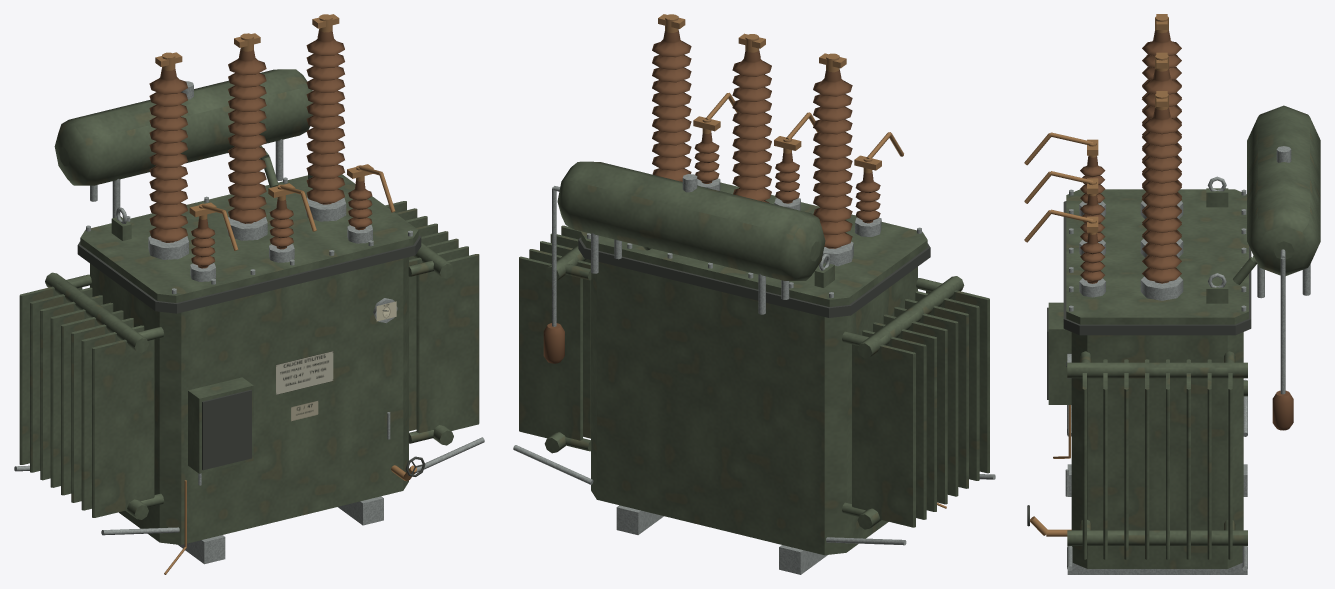
The model's file is SM_Substation_Transformer_LOD2.fbx.
The picture shows the model from 3 angles, left to right: view 1: azimuth 30°, elevation 25°; view 2: azimuth 150°, elevation 25°; view 3: azimuth 270°, elevation 25°; orthographic projection. The views are drawn at different scales.
Parts seen in each view (by area): view 1: SM_Substation_Transformer_LOD2; view 2: SM_Substation_Transformer_LOD2; view 3: SM_Substation_Transformer_LOD2.
Part boxes in pixels (x1,y1,x2,y2): SM_Substation_Transformer_LOD2: (14,14,484,574); SM_Substation_Transformer_LOD2: (513,14,995,574); SM_Substation_Transformer_LOD2: (1024,14,1320,574).
Size of the model in its own units: 5.12 by 3.38 by 5.97.
